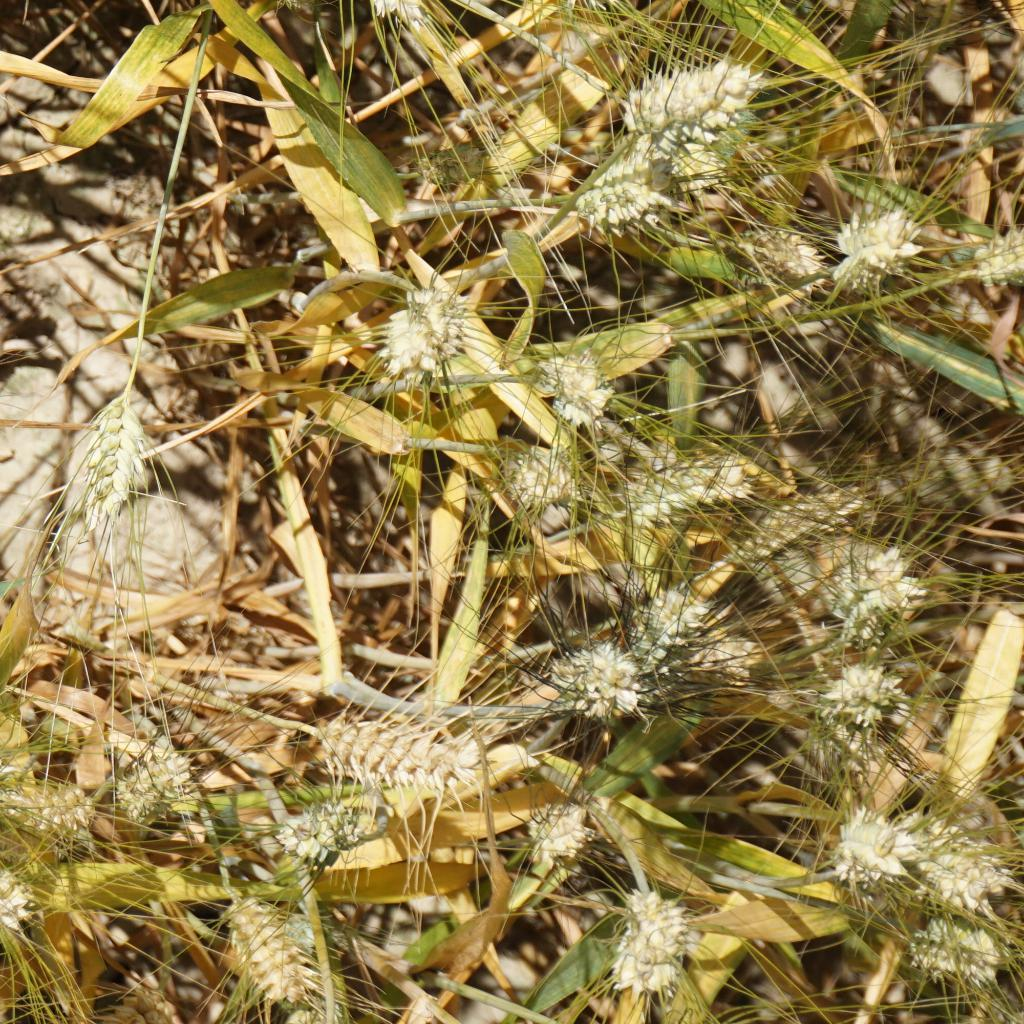0-0: (208, 884, 347, 1024), (313, 707, 482, 806), (613, 53, 767, 160), (900, 801, 1022, 918), (73, 380, 160, 534), (618, 445, 760, 531), (818, 535, 928, 645), (543, 632, 657, 734), (373, 270, 467, 392), (610, 876, 699, 1002), (804, 653, 928, 742), (619, 575, 717, 670), (575, 152, 681, 235), (272, 783, 378, 864), (824, 802, 919, 889), (911, 916, 1006, 991), (829, 215, 925, 286), (121, 737, 200, 822), (537, 354, 620, 433), (518, 791, 596, 874), (413, 134, 518, 193), (507, 438, 586, 515), (6, 761, 78, 833), (522, 0, 670, 34), (689, 624, 764, 682), (752, 224, 821, 279), (0, 854, 40, 947), (666, 142, 731, 197), (364, 0, 456, 29), (976, 234, 1024, 287)
